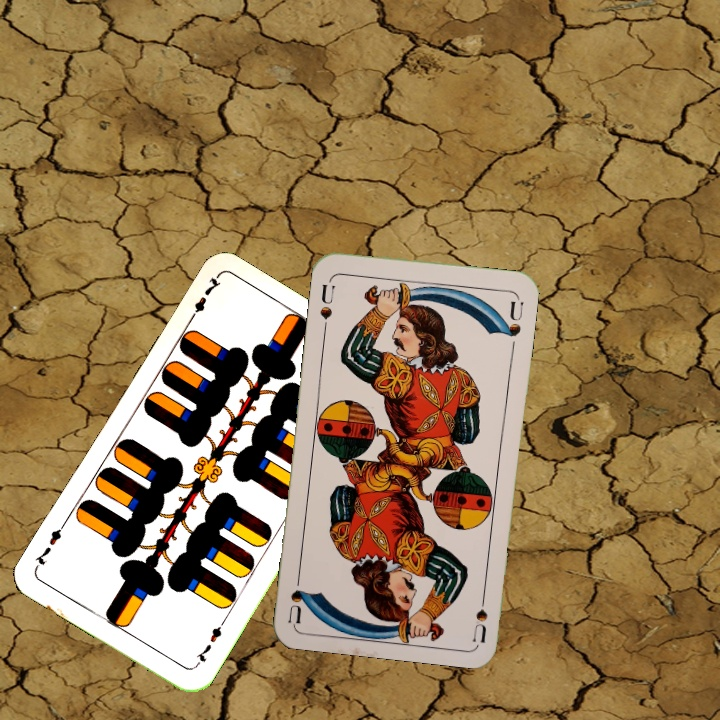E7: (184, 272, 224, 326), (191, 616, 228, 670)
SU: (468, 584, 490, 643), (316, 279, 337, 334)
